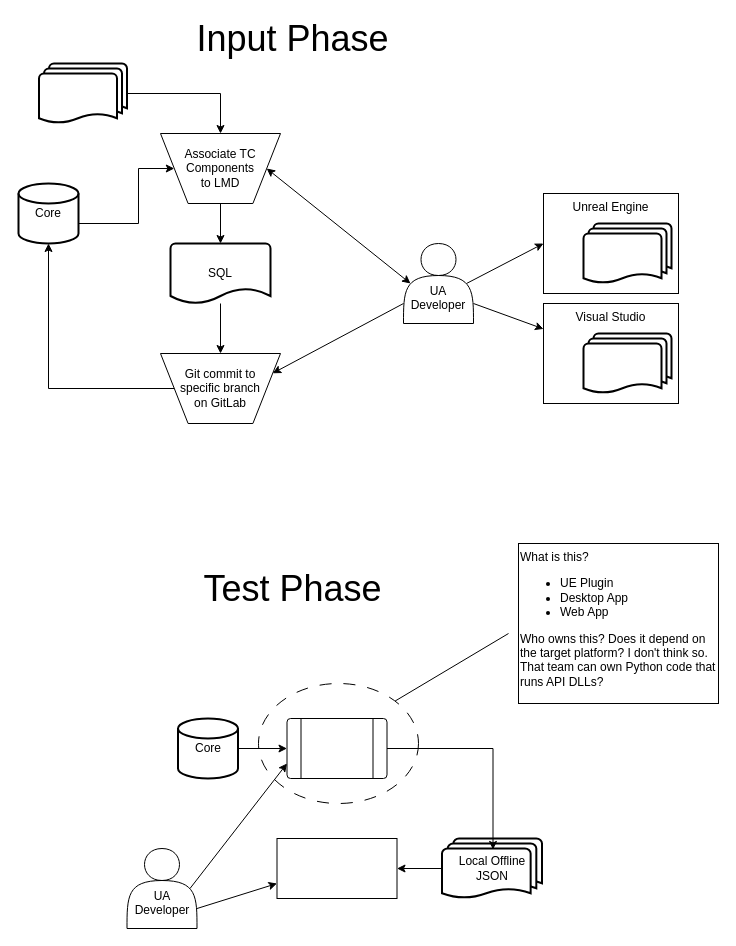
Some shapes in this 736 by 946 pixel diagram are drawn without their labels. Each missing label, with the centre of its shape:
"C++ Source Code" belongs at (627,363).
"Create Data Response JSONs" belongs at (336,748).
"IETM" belongs at (83,93).
"Trainer in Edit Mode" belongs at (336,868).
"UE 5 Blueprints" belongs at (627,253).
